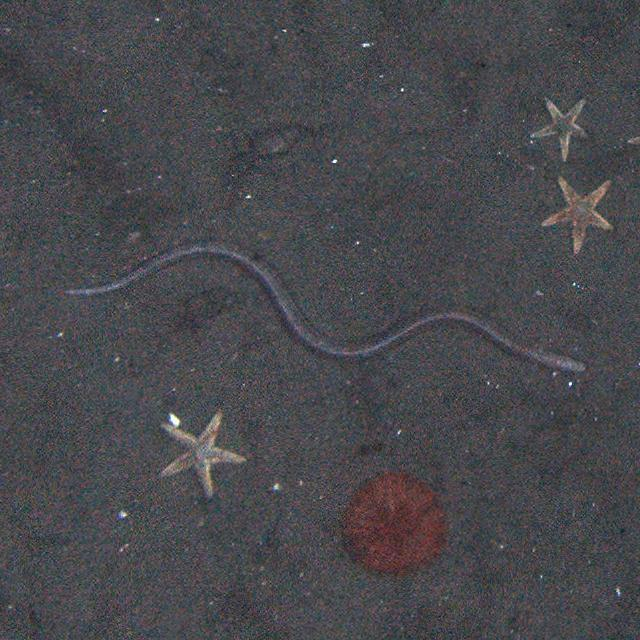eel: (68, 237, 591, 382)
